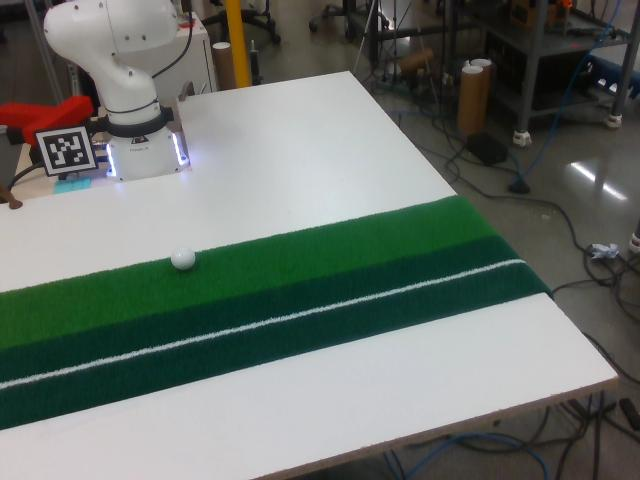golf_balls: (171, 246, 196, 271)
